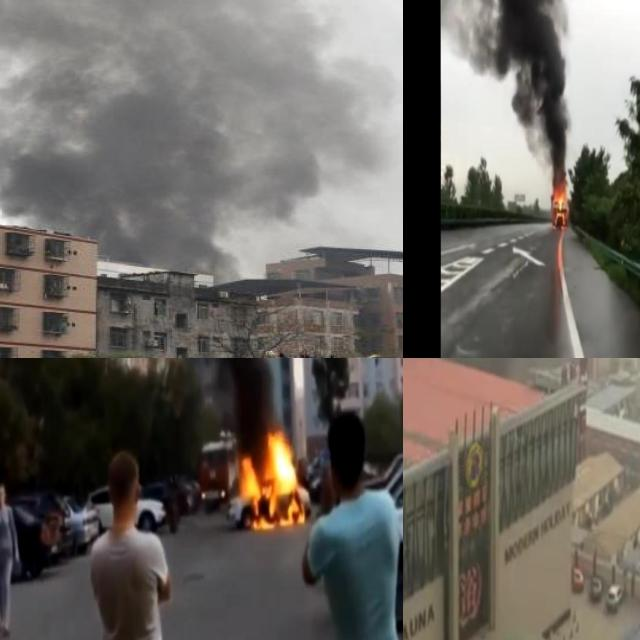fire: (239, 429, 306, 530), (552, 185, 568, 225)
smoke: (0, 0, 403, 261), (440, 0, 585, 185), (157, 358, 295, 449)
